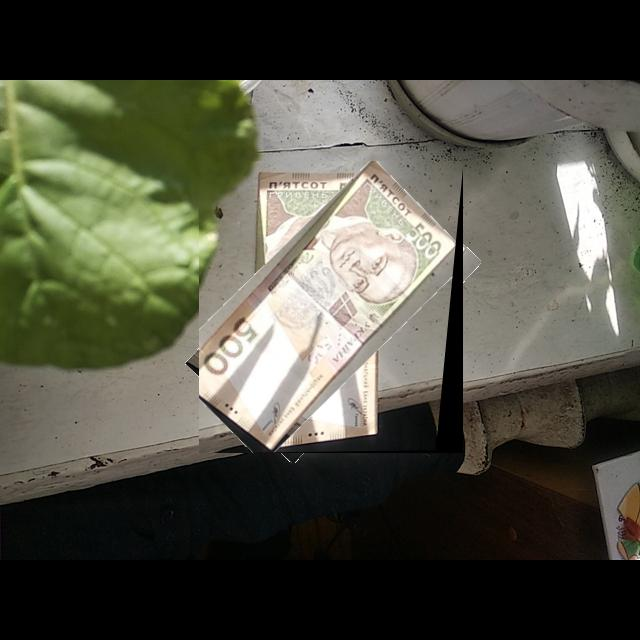500uah: (199, 161, 458, 453)
